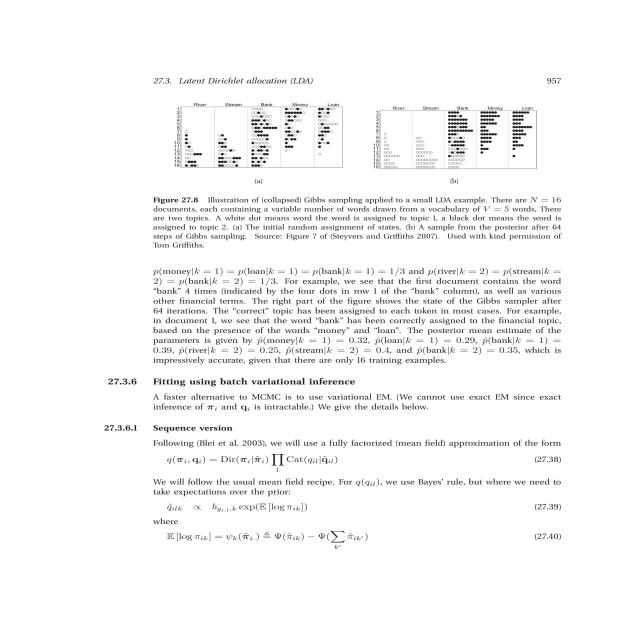diagram: (118, 91, 640, 247)
